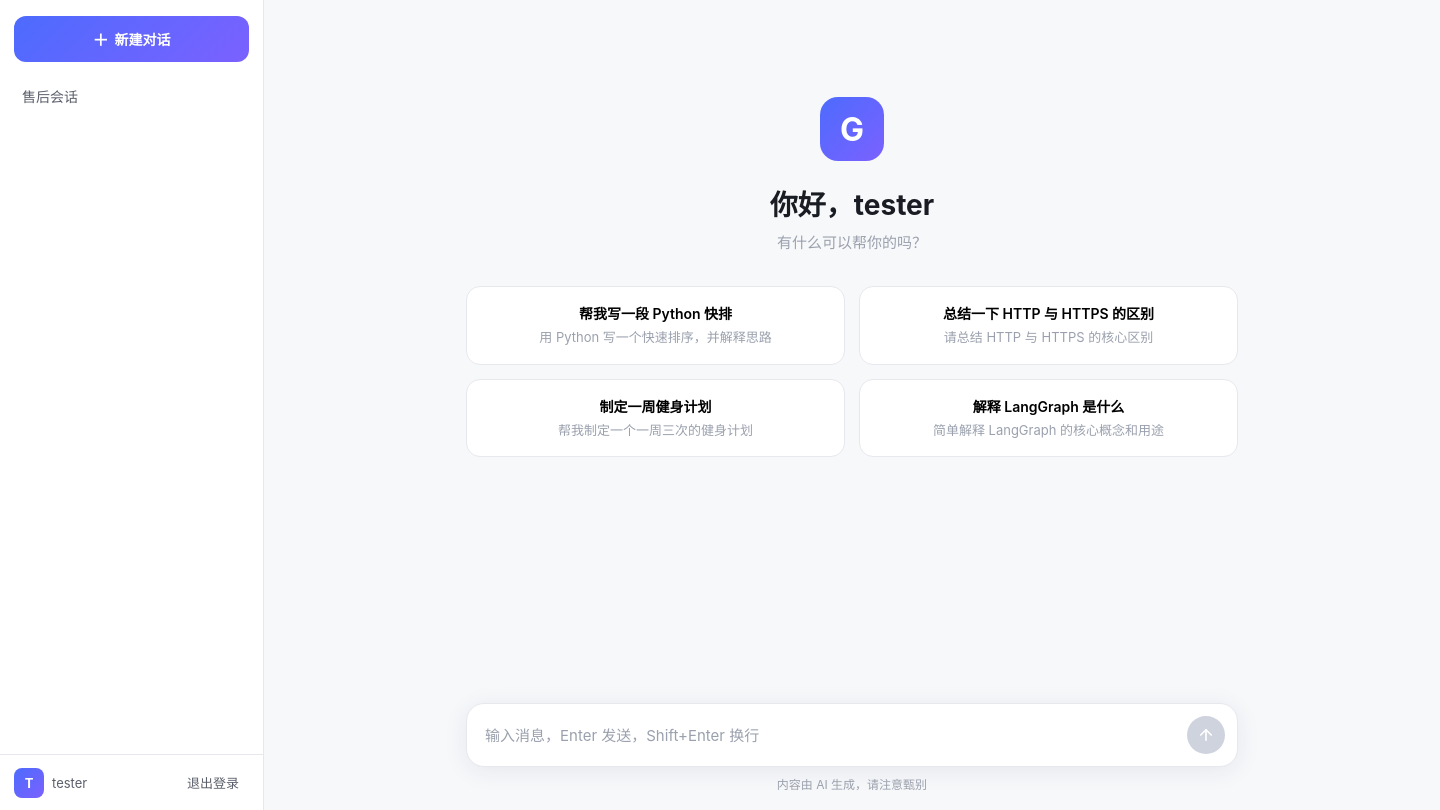
ChatPage /stream 持久通道与双通道合并 › 停止生成后 /stream 补齐同轮 delta/clarify/turn_end：两段文本、卡片可点、streaming=false
Click the text "售后会话" at (50,96), box [22,88,78,105]
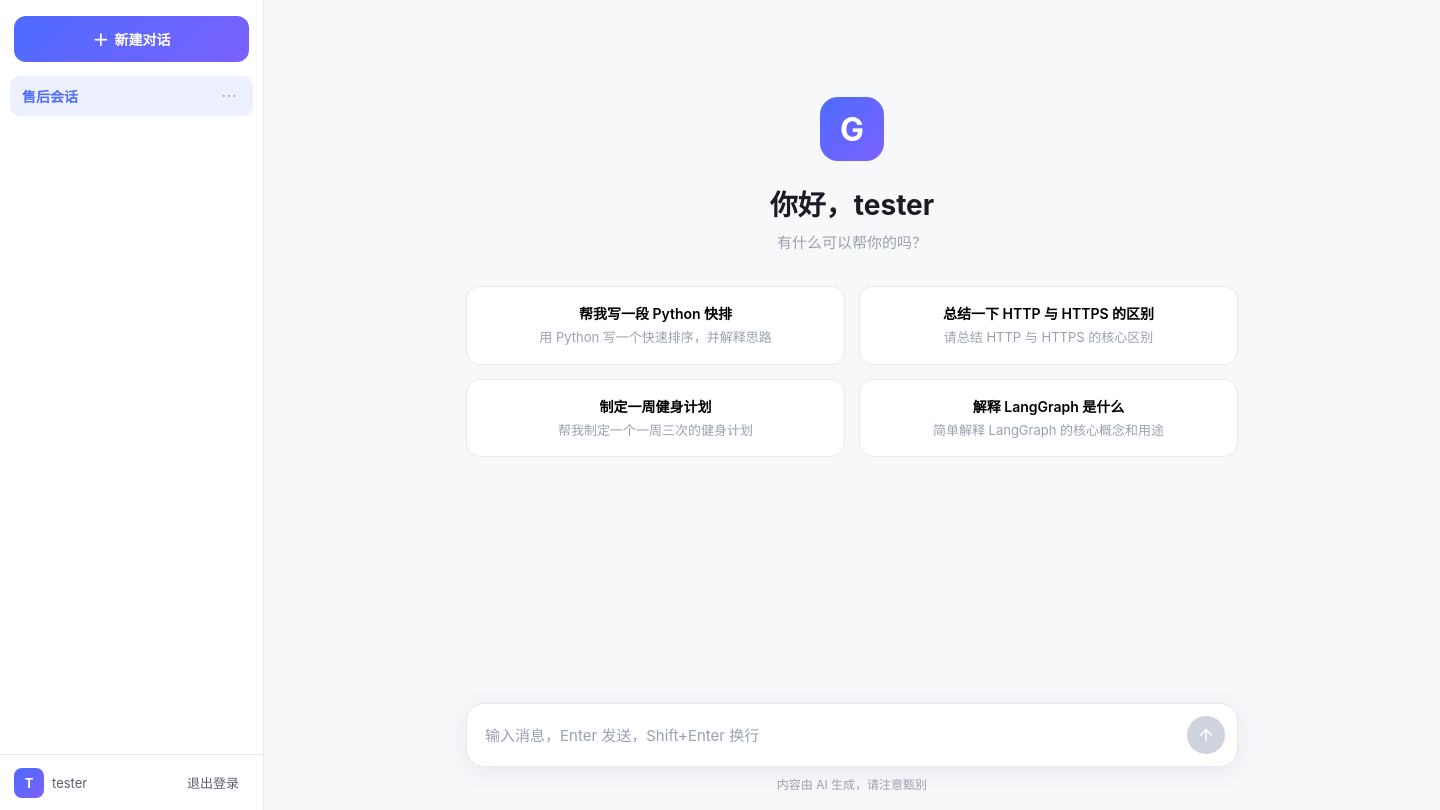
Type "继续" into the text box with placeholder "输入消息，Enter 发送，Shift+Enter 换行" at (831,736), box [485,718,1177,754]
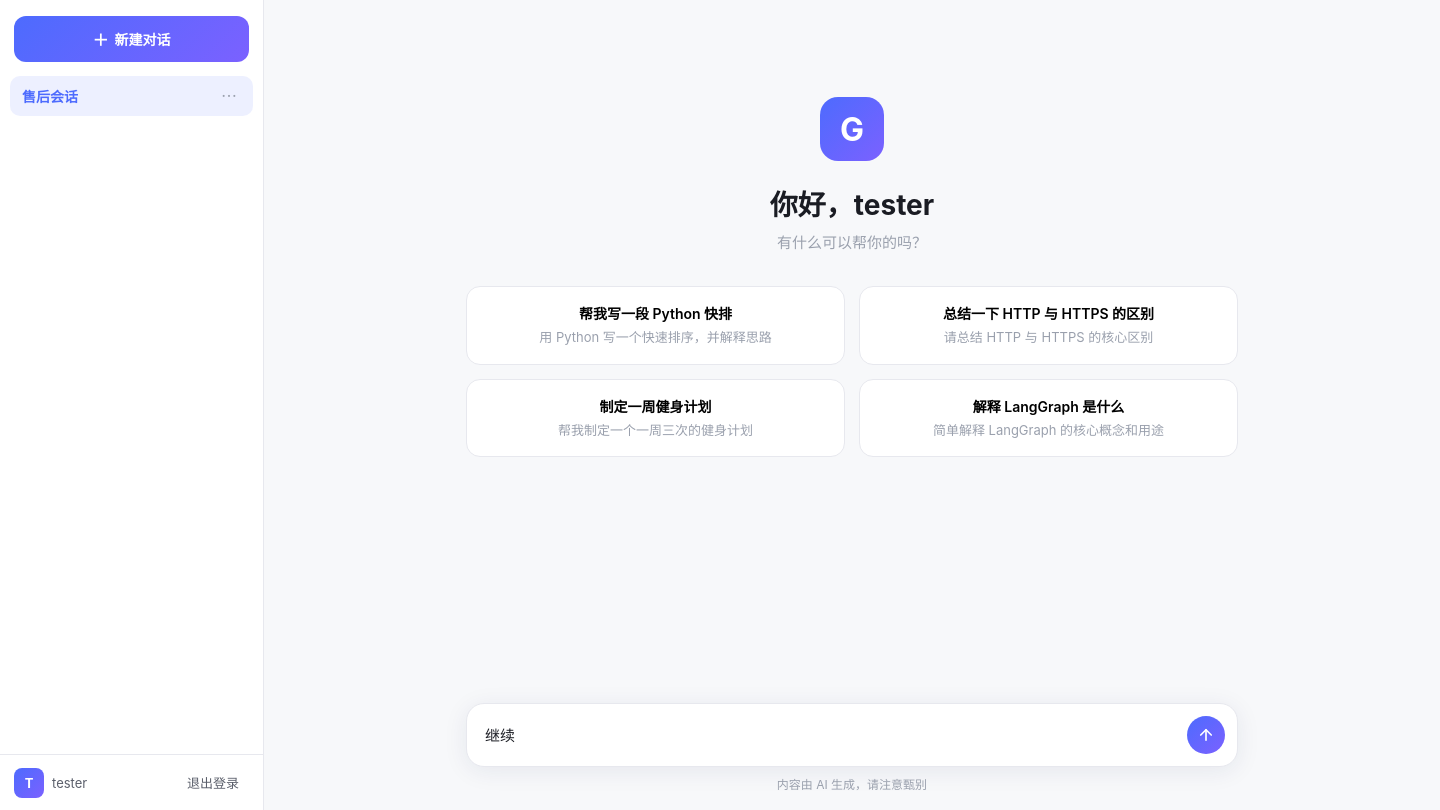
Click the button titled "发送" at (1206,735), box [1187,716,1225,754]
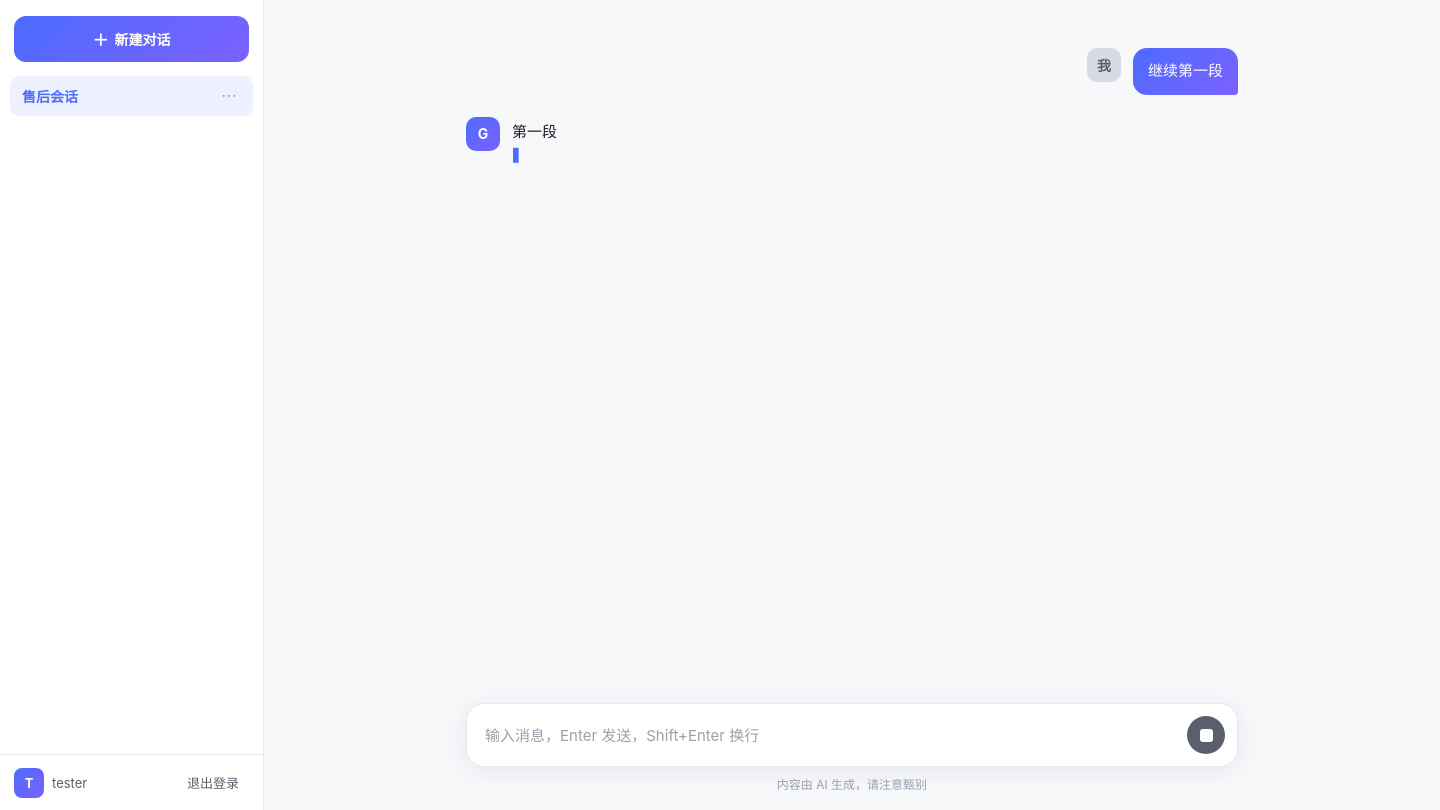
Expected: the button titled "停止生成" is shown
Expected: the element with class "bubble-assistant" shows "第一段", [512,122,557,141]
Click the button titled "停止生成" at (1206,735), box [1187,716,1225,754]
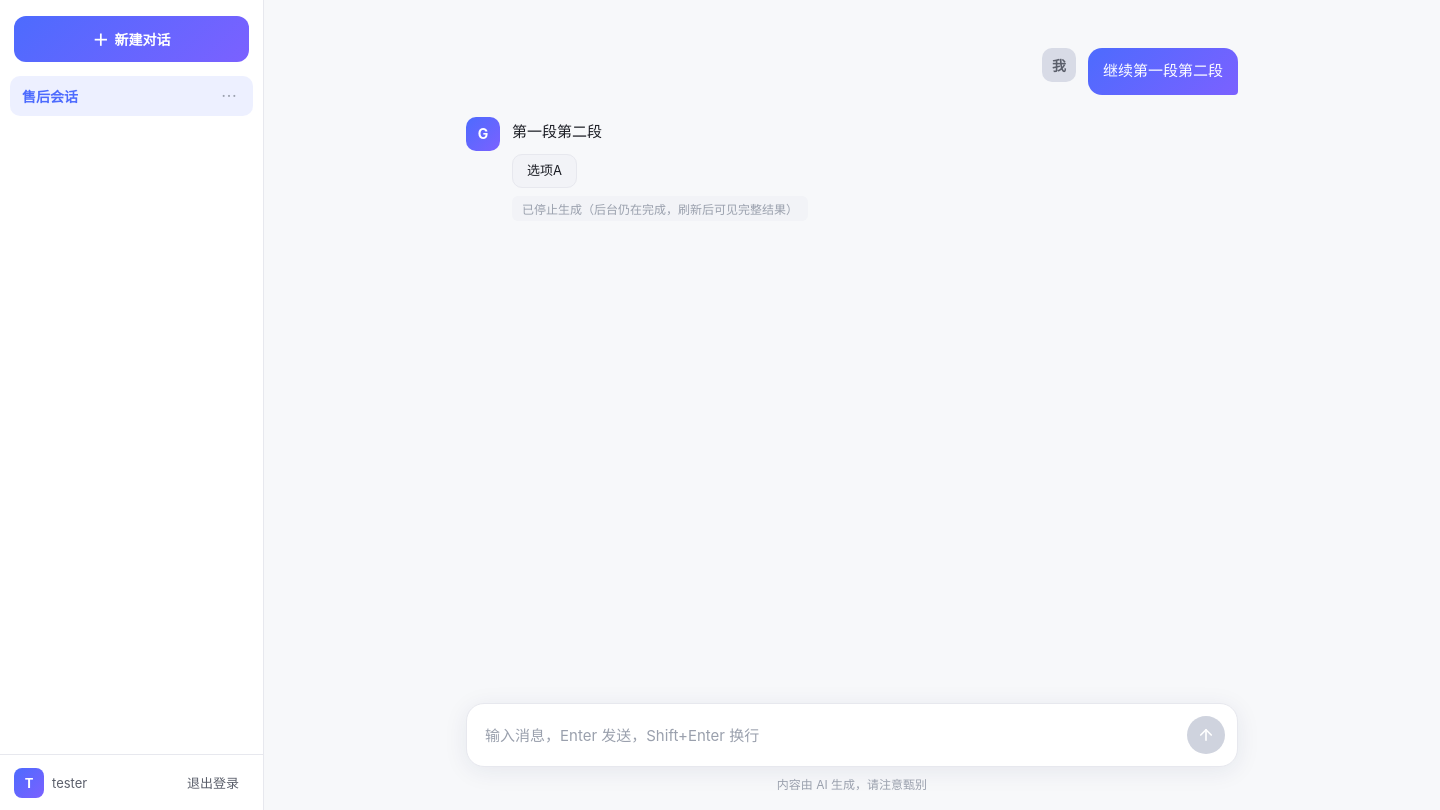
Expected: the element with class "bubble-assistant" shows "第一段第二段", [512,122,602,141]
Expected: the button "选项A" is enabled, [512,154,577,188]
Expected: the button titled "发送" is shown, [1187,716,1225,754]
